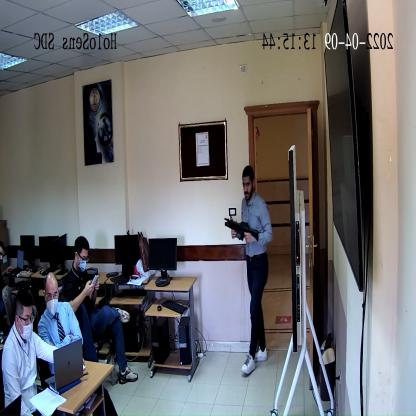handgun: (225, 216, 259, 243)
